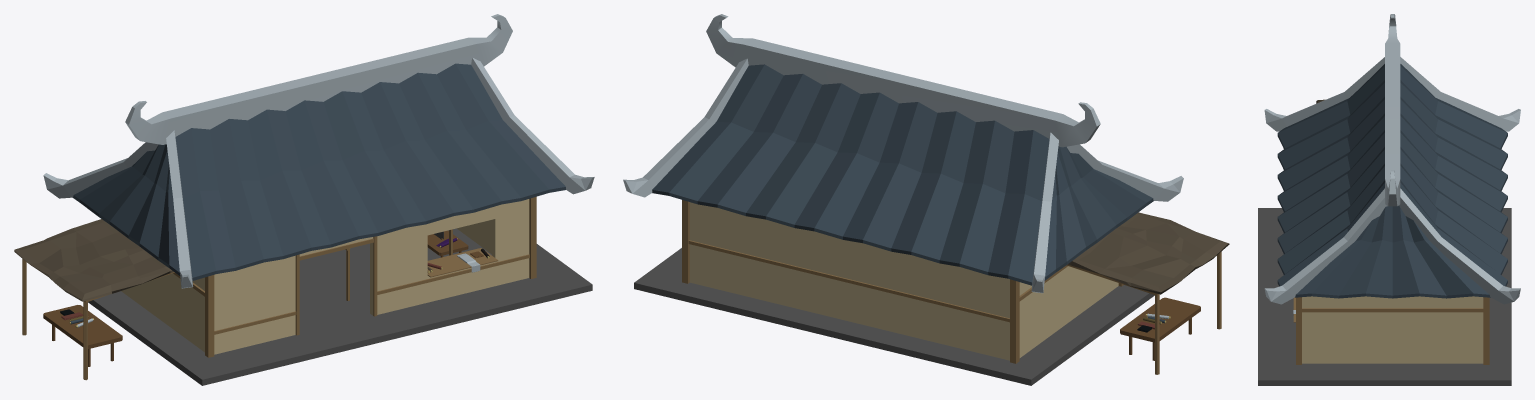
The model's file is house_6_布庄.fbx.
The picture shows the model from 3 angles, left to right: view 1: azimuth 30°, elevation 25°; view 2: azimuth 150°, elevation 25°; view 3: azimuth 270°, elevation 25°; orthographic projection. The views are drawn at different scales.
Visible parts, largest first — view 1: house_6_1; view 2: house_6_1; view 3: house_6_1.
Part boxes in pixels (x1,y1,x2,y2): house_6_1: (14, 14, 594, 385); house_6_1: (623, 14, 1229, 385); house_6_1: (1258, 14, 1520, 385).
Bounding box in the file's own units: 1657 × 735 × 855.
